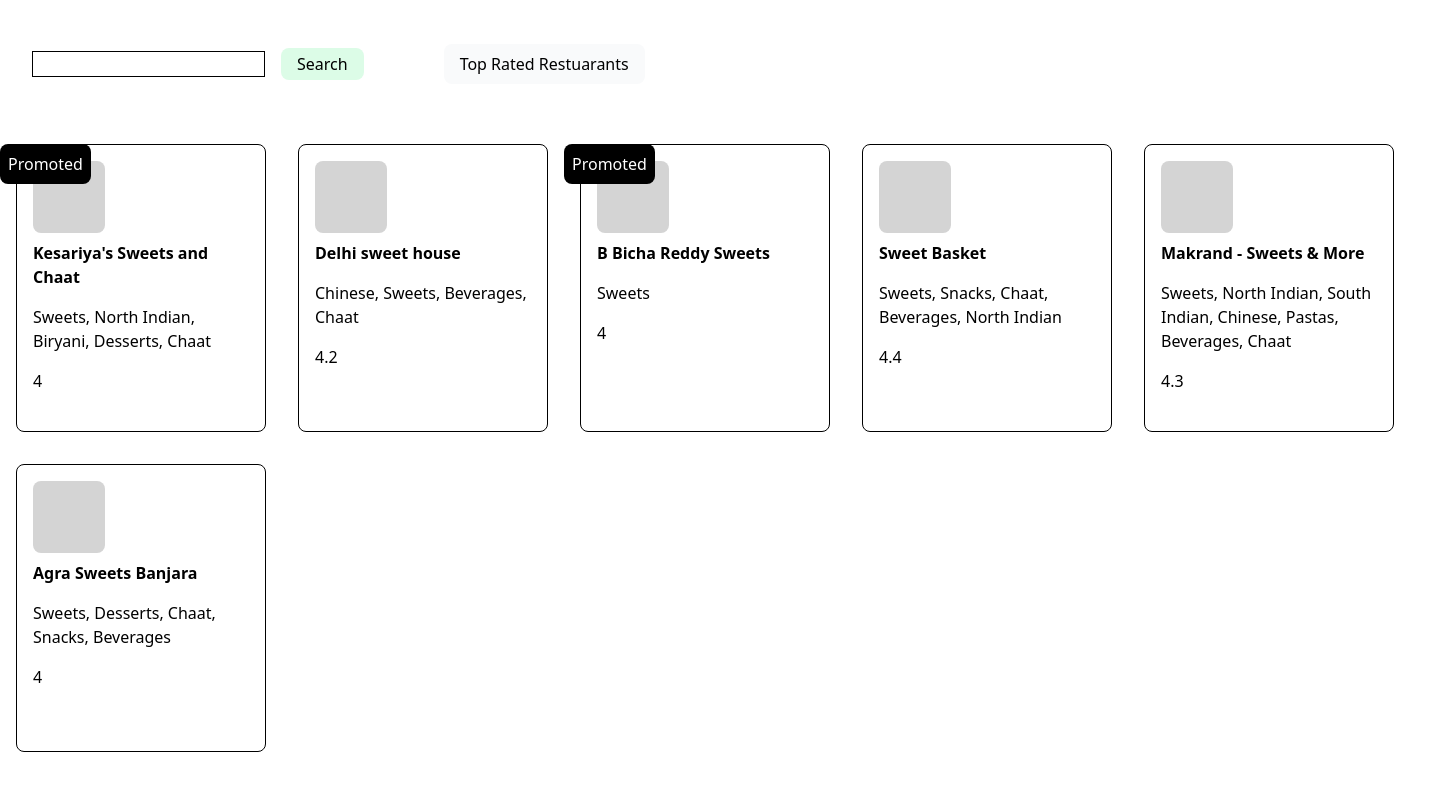
Scenario: should render the body component with search input
Expected: the number of elements with test id "resCard" is 6, [16,144,266,432]; [298,144,548,432]; [580,144,830,432]; [862,144,1112,432]; [1144,144,1394,432]; [16,464,266,752]
Type "Sweets" into the field with test id "searchInput" at (148, 64), box [32,51,265,77]
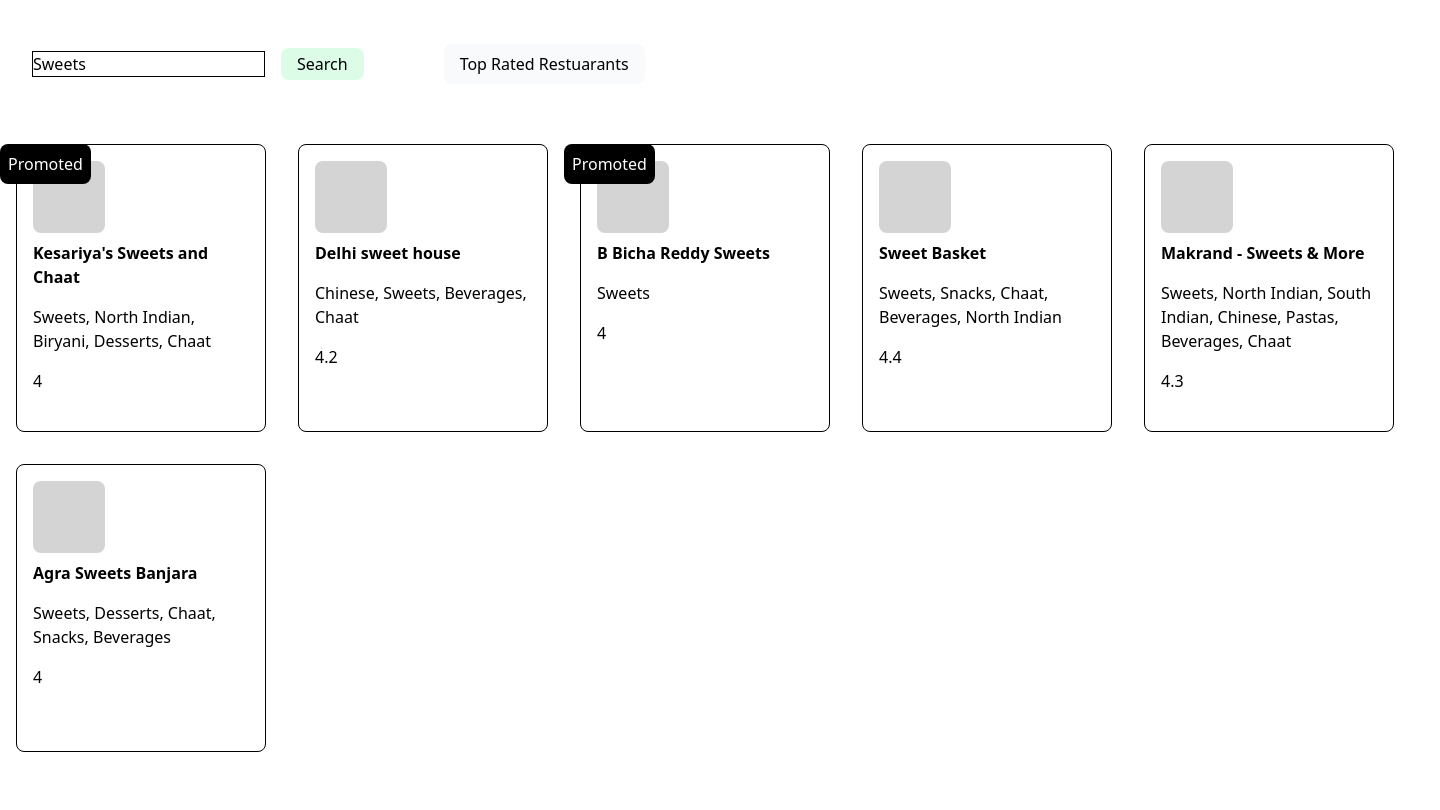
Click the button "Search" at (322, 64), box [281,48,364,80]
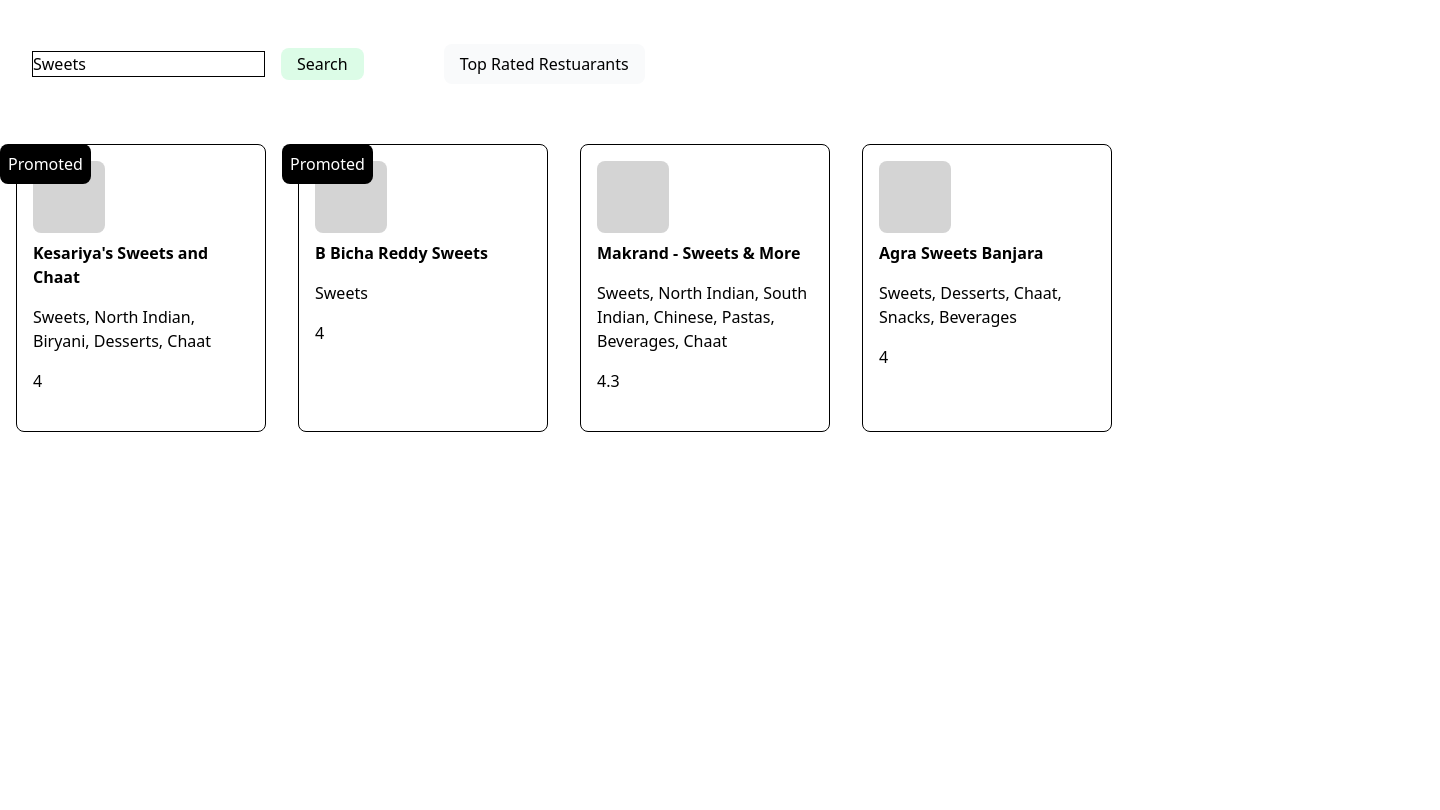
Now the number of elements with test id "resCard" is 4, box [16,144,266,432]; [298,144,548,432]; [580,144,830,432]; [862,144,1112,432]
